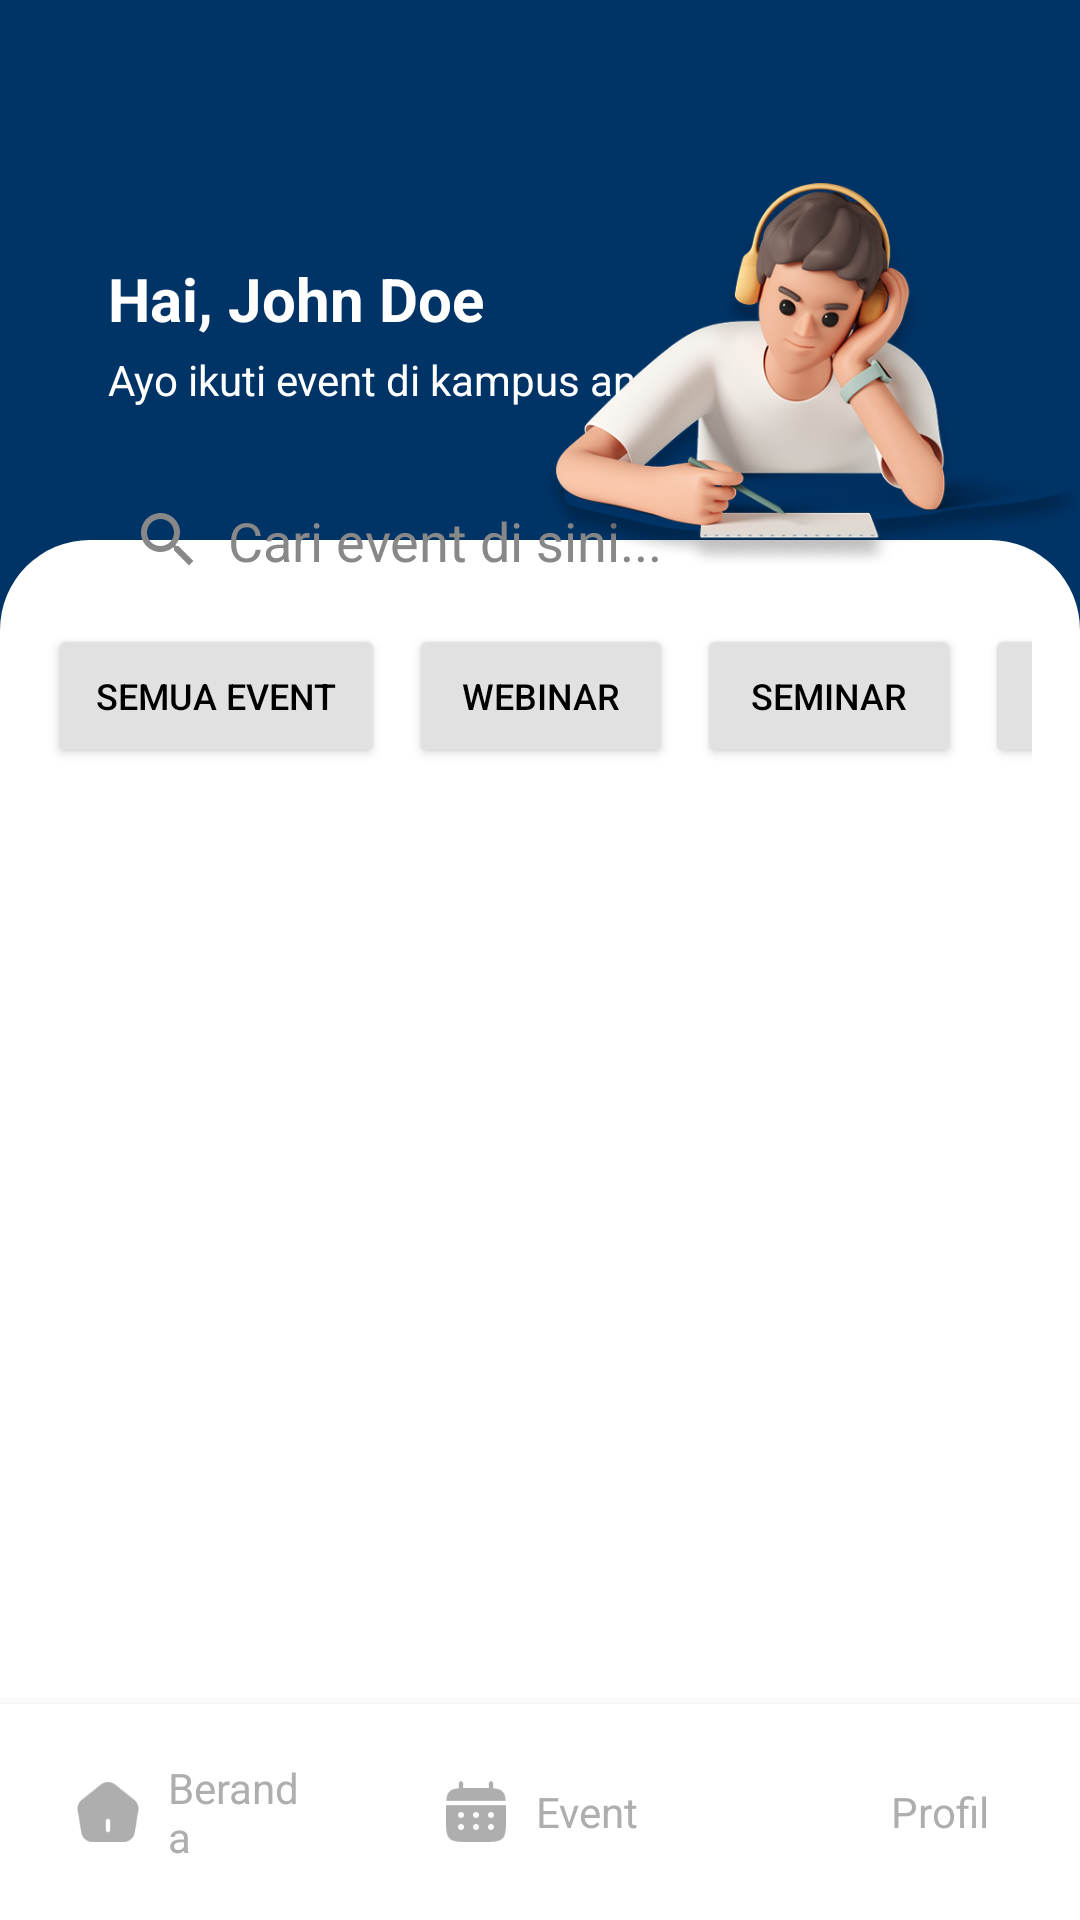

Where to tap for icons on this 1080w x 1920h app screen, as [x,y]:
home: [108,1812]
